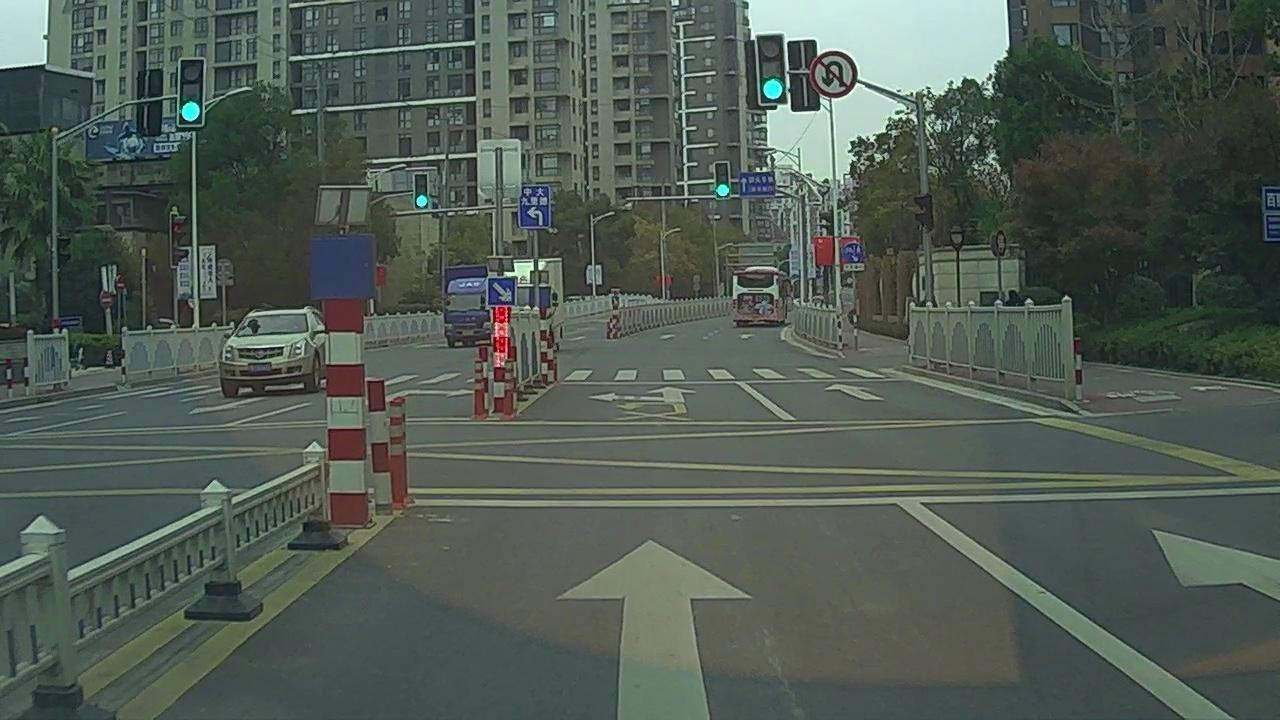traffic_light: (759, 36, 783, 105), (180, 57, 202, 126), (715, 163, 732, 200), (414, 174, 428, 210)
